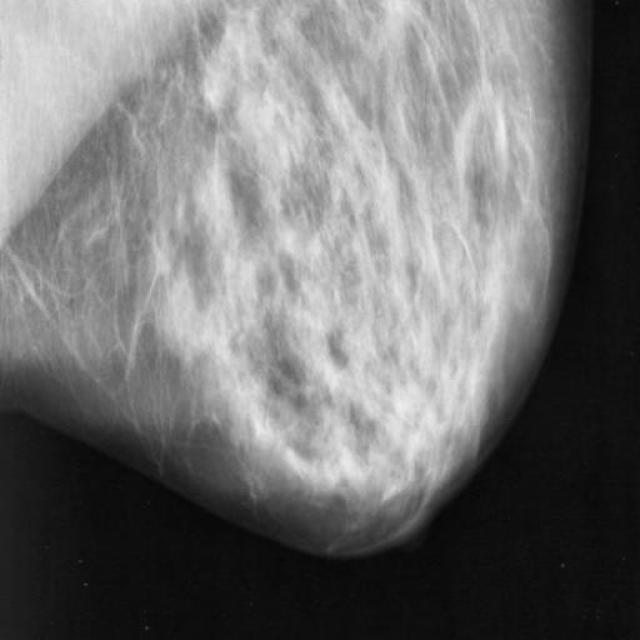cancer: (268, 188, 334, 300)
